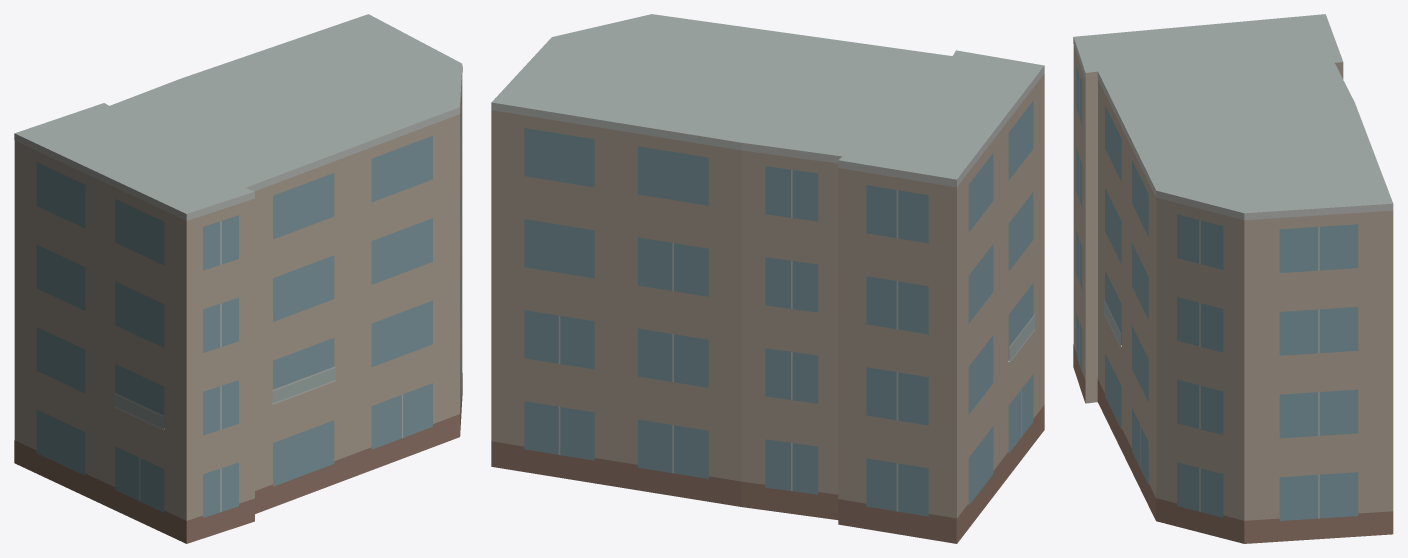
The model's file is survey-upis-32890613.glb.
3 views of the same model, side by side, from view 1: azimuth 30°, elevation 25°; view 2: azimuth 150°, elevation 25°; view 3: azimuth 270°, elevation 25° (orthographic). The views are drawn at different scales.
Visible parts, largest first — view 1: survey-upis-32890613.tmp; view 2: survey-upis-32890613.tmp; view 3: survey-upis-32890613.tmp.
Boxes of the visible parts, x1=… form: survey-upis-32890613.tmp: x1=14, y1=14, x2=462, y2=543; survey-upis-32890613.tmp: x1=491, y1=14, x2=1044, y2=543; survey-upis-32890613.tmp: x1=1073, y1=14, x2=1393, y2=543.
Bounding box in the file's own units: 15.01 × 11.6 × 10.18.
